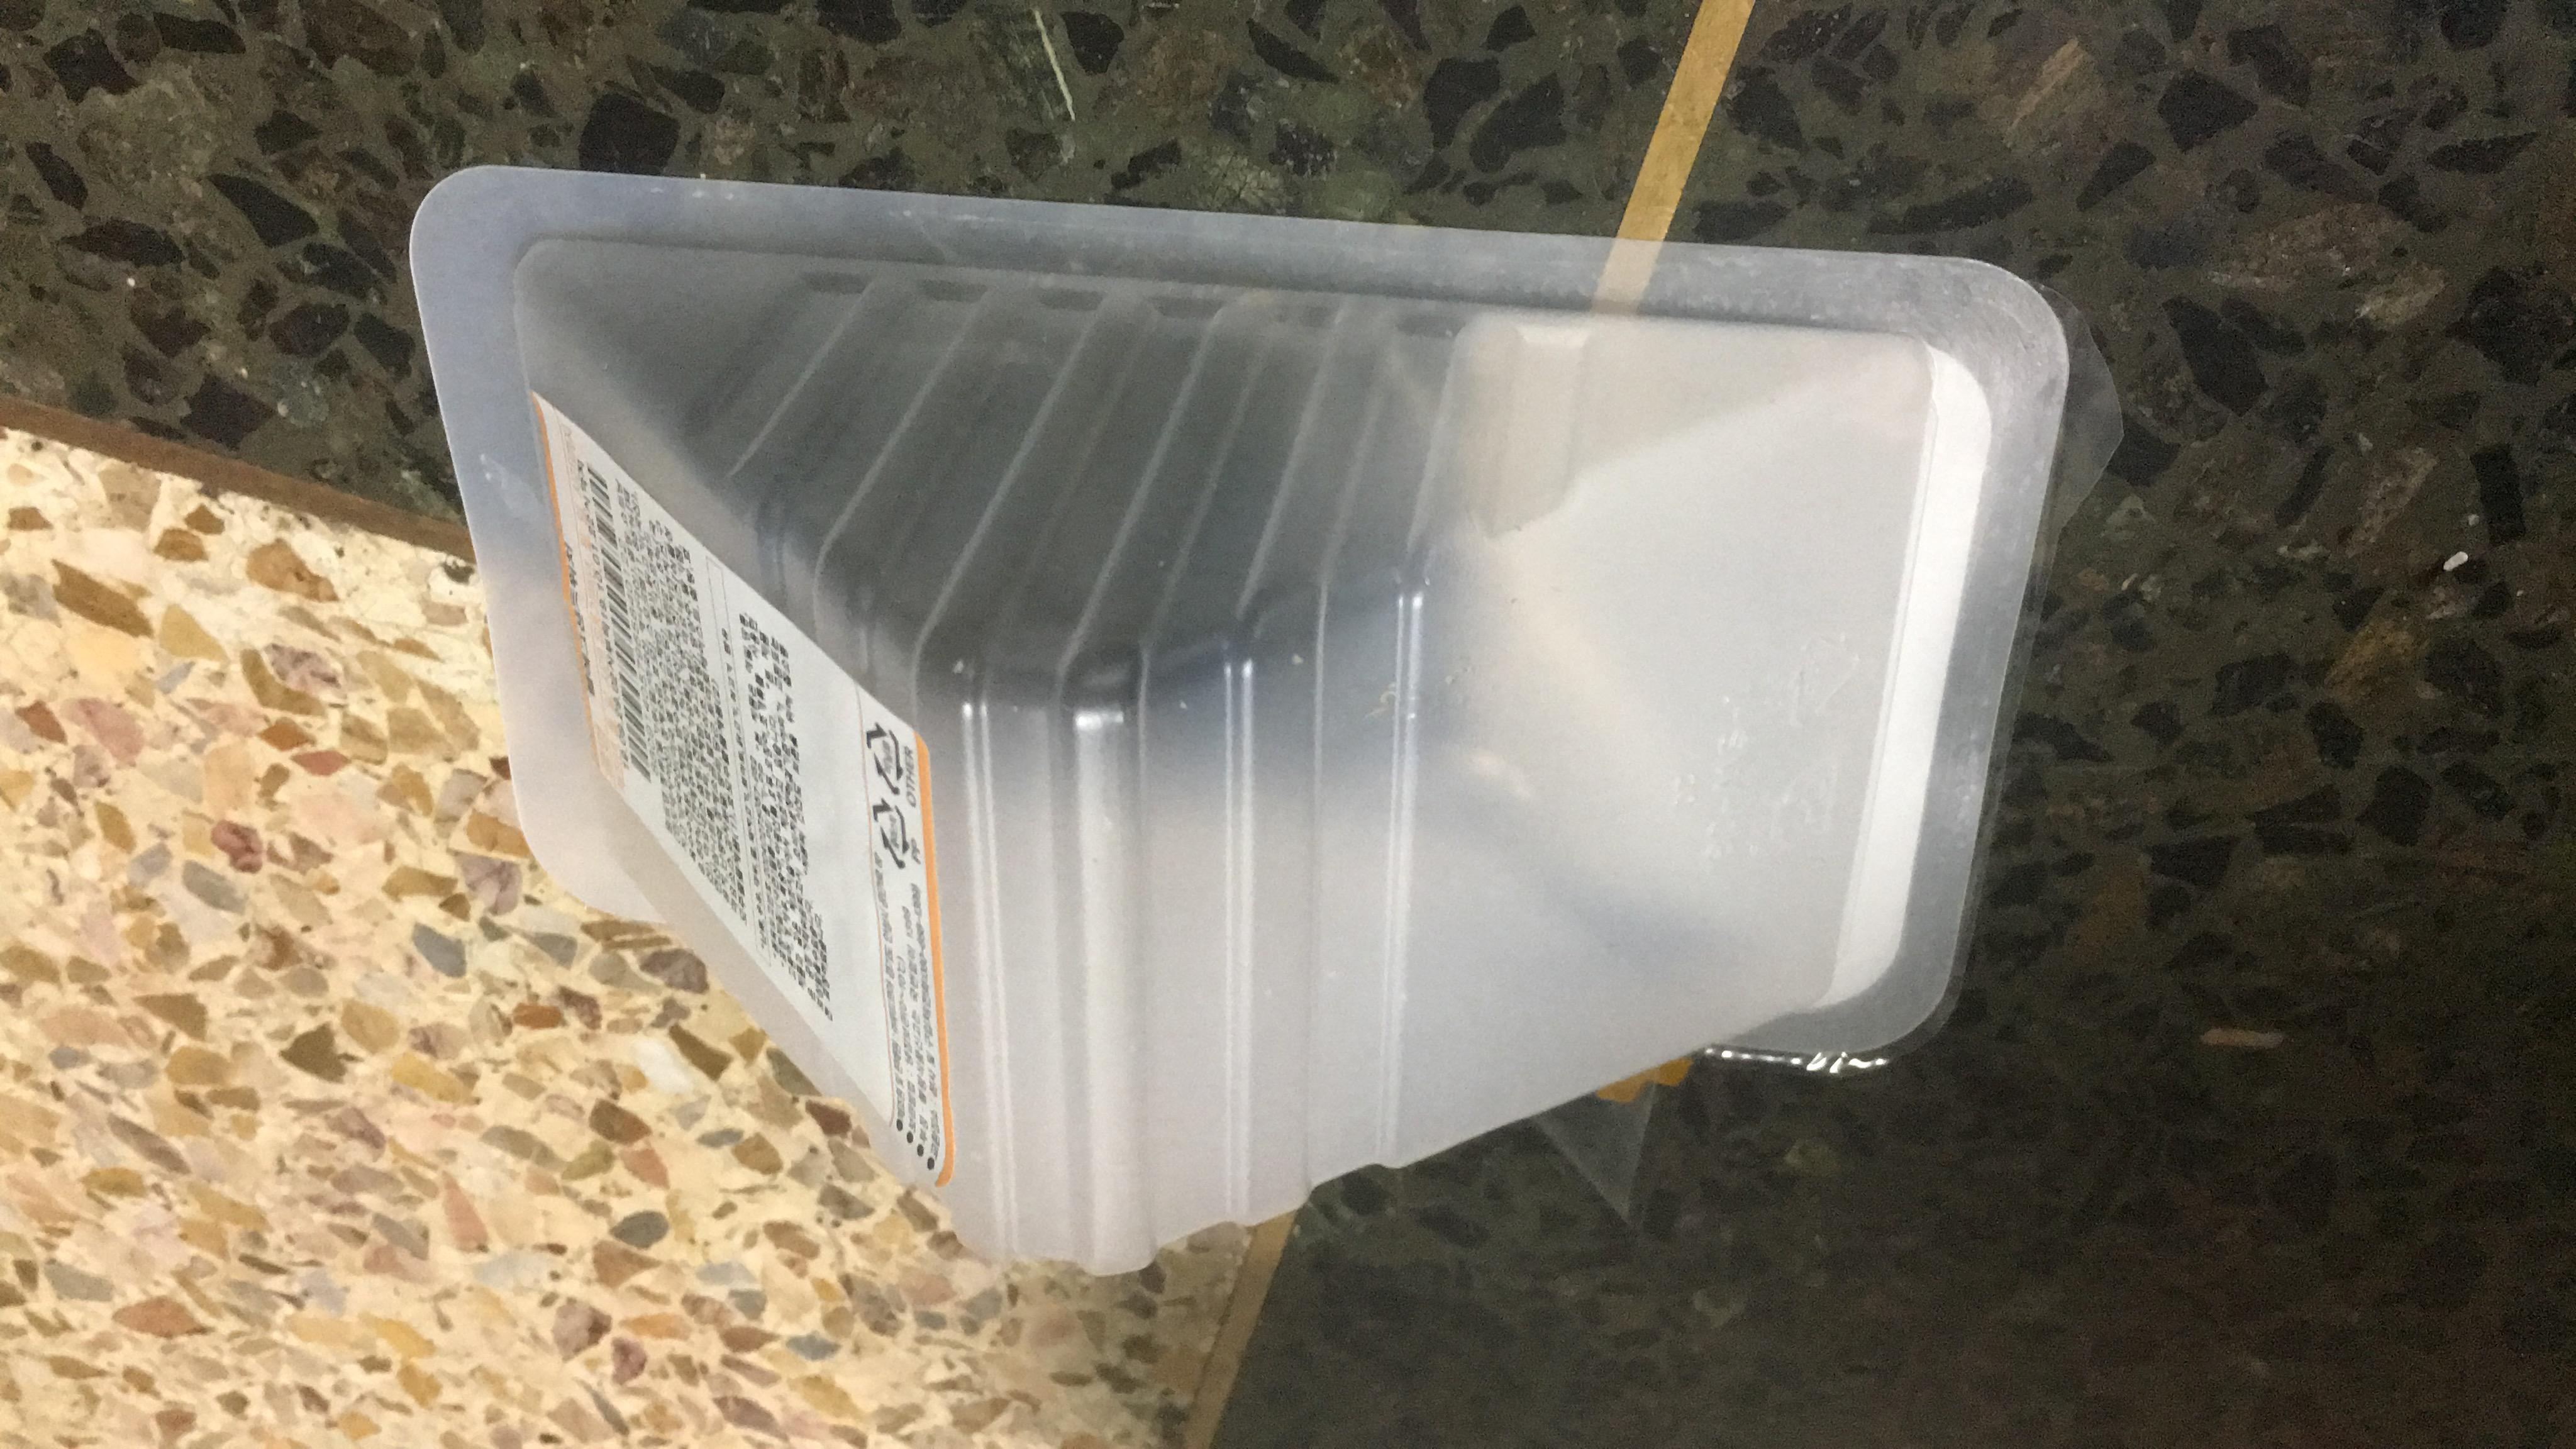bottle: (511, 216, 2194, 1238)
